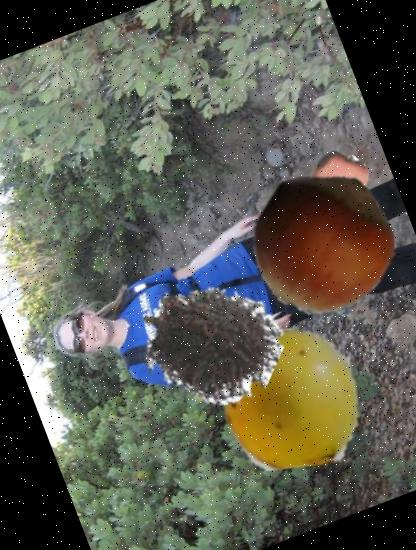Grape: (201, 308, 381, 488)
Kaki: (290, 140, 379, 228)
Mulberry: (270, 208, 404, 341)
Nut: (230, 149, 416, 336)
Rambutan: (119, 251, 300, 432)
